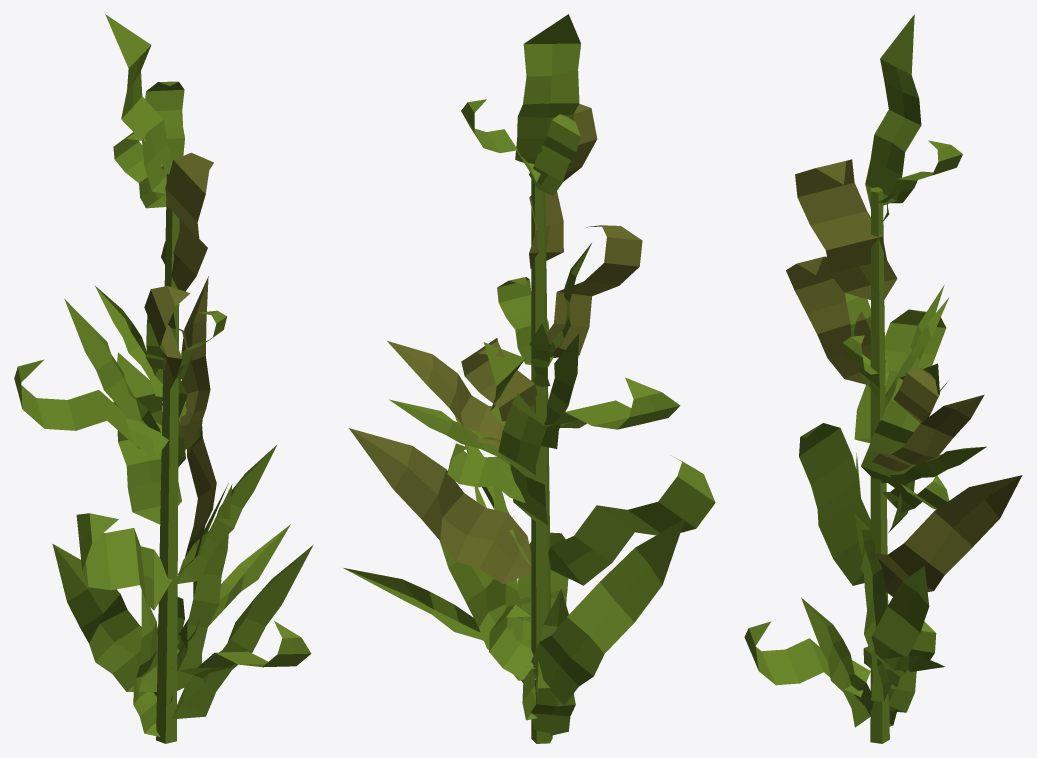
Rendered from Corn4.glb.
3 renders of one model, left to right at view 1: azimuth 30°, elevation 25°; view 2: azimuth 150°, elevation 25°; view 3: azimuth 270°, elevation 25°, orthographic. The views are drawn at different scales.
Visible parts, largest first — view 1: Corn.Geo.003; view 2: Corn.Geo.003; view 3: Corn.Geo.003.
Part boxes in pixels (box(x1,y1,x2,y2)): Corn.Geo.003: box(14, 14, 313, 743); Corn.Geo.003: box(343, 14, 715, 743); Corn.Geo.003: box(744, 14, 1022, 743).
Size of the model in its own units: 3.12 by 7.24 by 2.59.
